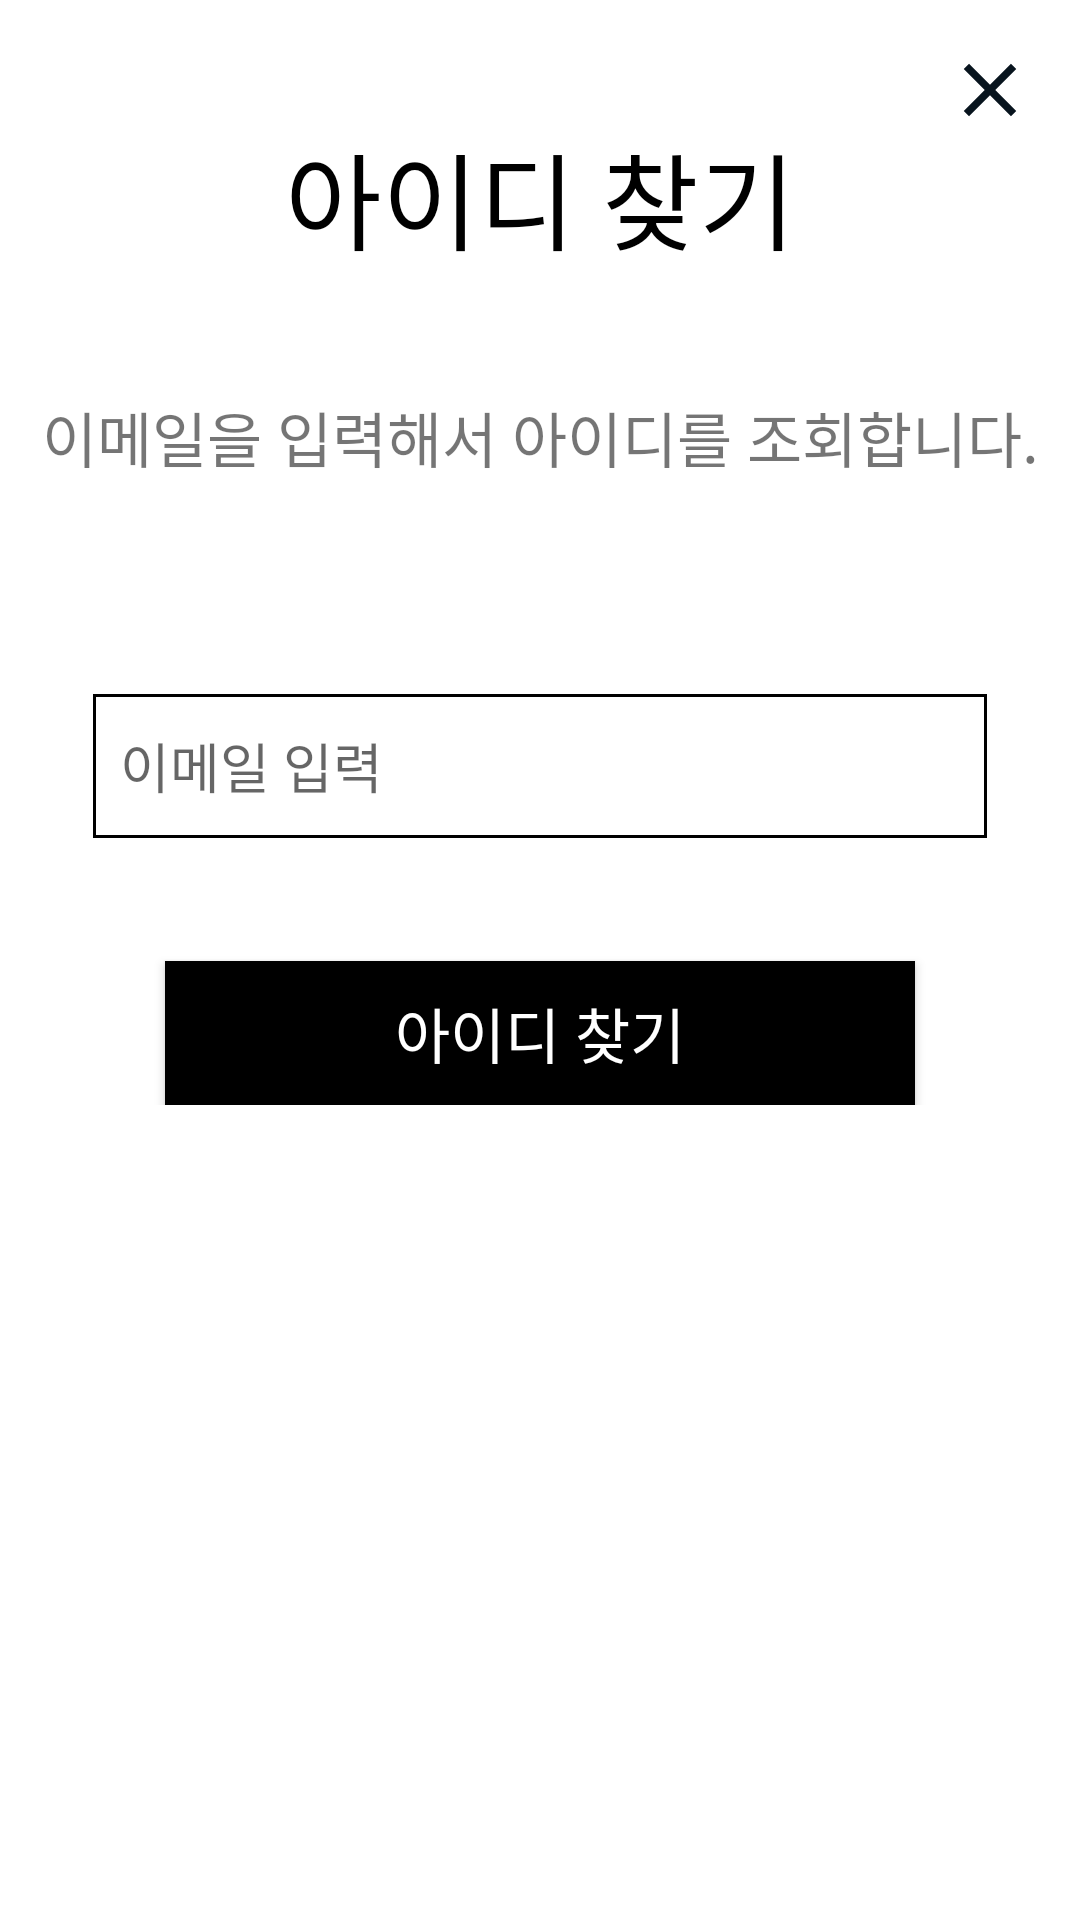

Named icons in this screenshot (1080px x 1920px) and their bounding boxes, (x1, y1, x2, y2):
close: (964, 64, 1016, 116)
